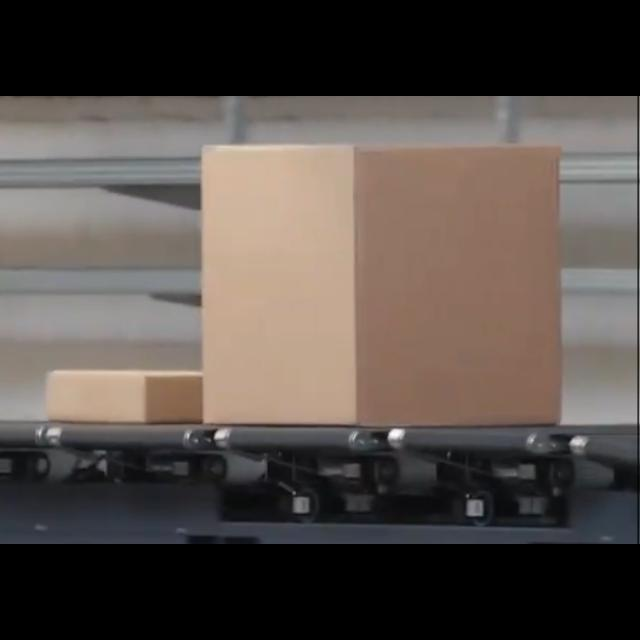box: (200, 141, 564, 429), (45, 368, 203, 426)
